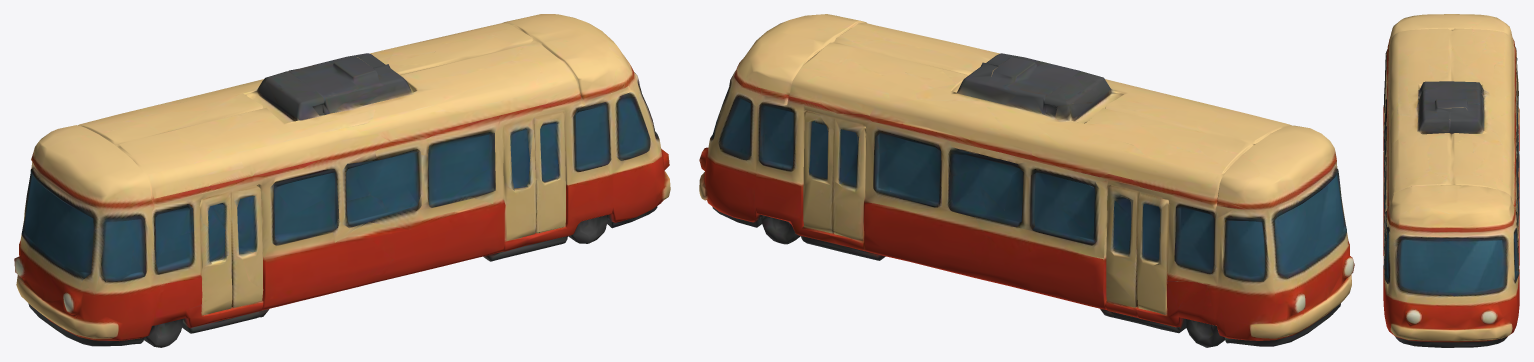
Rendered from tram.glb.
3 renders of one model, left to right at view 1: azimuth 30°, elevation 25°; view 2: azimuth 150°, elevation 25°; view 3: azimuth 270°, elevation 25°, orthographic. The views are drawn at different scales.
Parts seen in each view (by area): view 1: tripo_node_acadaf02-9ea2-46df-9cf8-83b035f919d1; view 2: tripo_node_acadaf02-9ea2-46df-9cf8-83b035f919d1; view 3: tripo_node_acadaf02-9ea2-46df-9cf8-83b035f919d1.
Boxes of the visible parts, x1,y1,x2,y2 form: tripo_node_acadaf02-9ea2-46df-9cf8-83b035f919d1: [14, 14, 670, 347]; tripo_node_acadaf02-9ea2-46df-9cf8-83b035f919d1: [699, 14, 1354, 347]; tripo_node_acadaf02-9ea2-46df-9cf8-83b035f919d1: [1383, 14, 1519, 347].
Bounding box in the file's own units: 7 × 2.19 × 1.8.
1 material, 1 textured.
